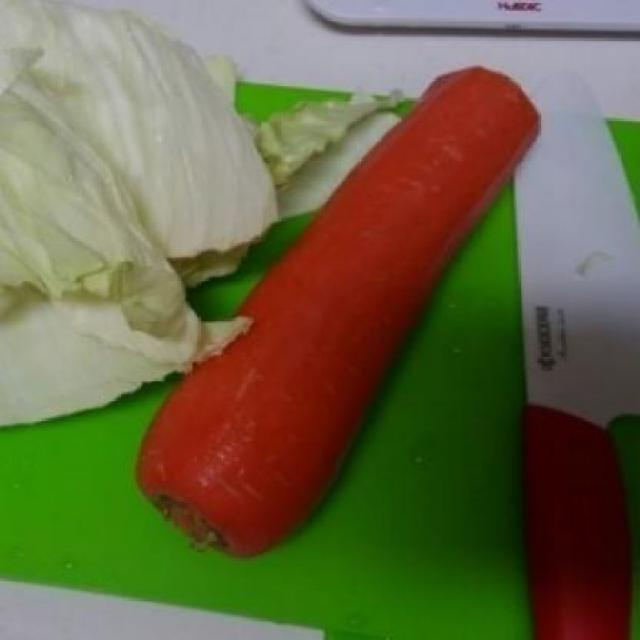carrot: (130, 64, 544, 564)
